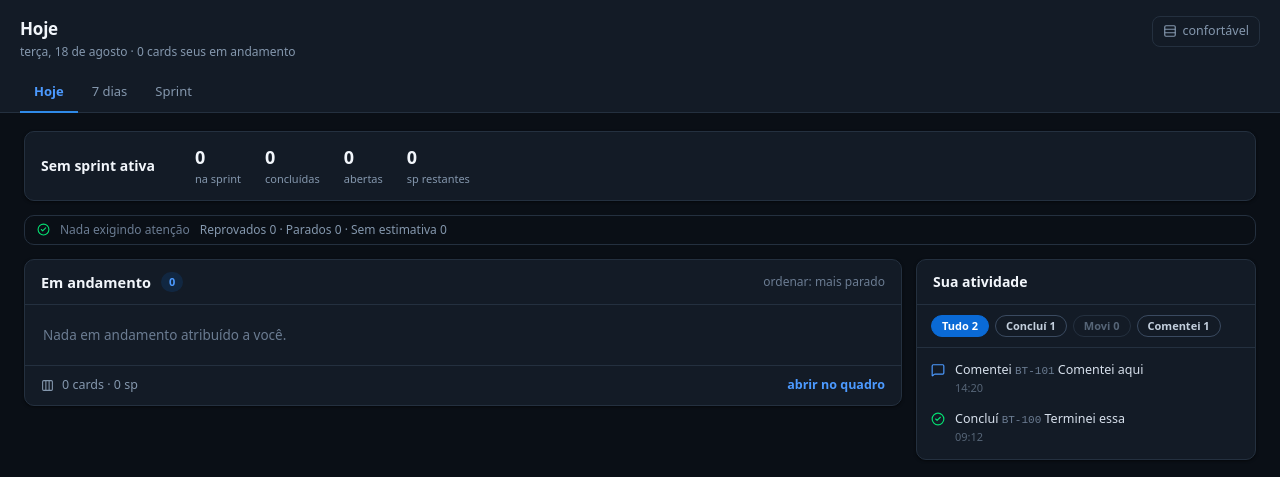
Dashboard (tela "Hoje") › trilho "Sua atividade": mescla concluí/movi/comentei e filtra pelos chips (chip com 0 fica desabilitado)
Check: the button "Concluí BT-100 Terminei essa 09:12" is shown, box x1=923 y1=403 x2=1249 y2=453
Check: the button "Comentei BT-101 Comentei aqui 14:20" is shown, box x1=923 y1=354 x2=1249 y2=403
Click the button "Concluí 1": (1031, 326) x1=995 y1=314 x2=1067 y2=337
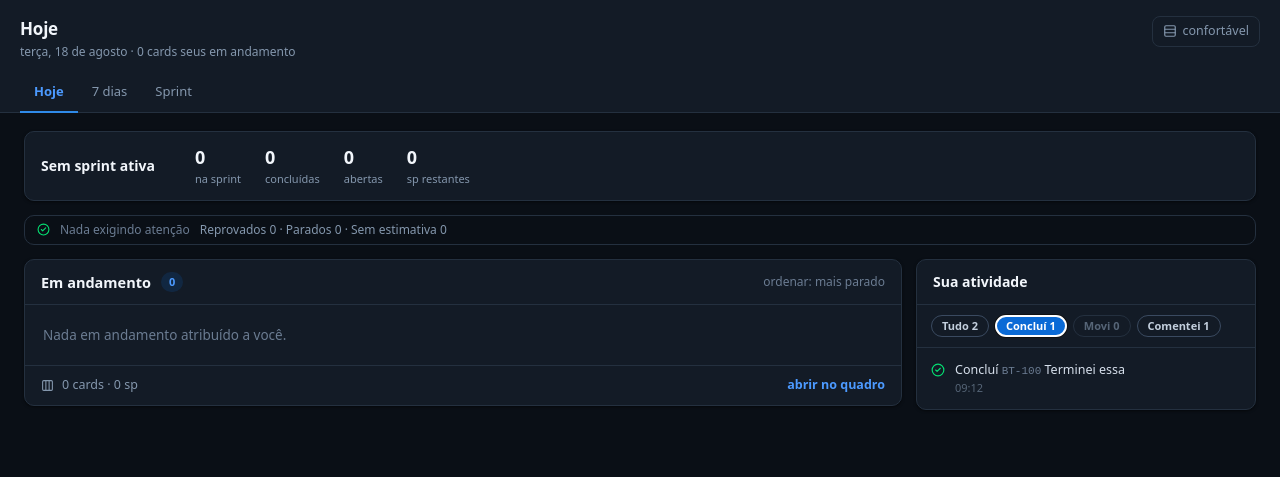
Check: the button "Concluí BT-100 Terminei essa 09:12" is shown, box x1=923 y1=354 x2=1249 y2=403
Check: the button "Comentei aqui" is gone
